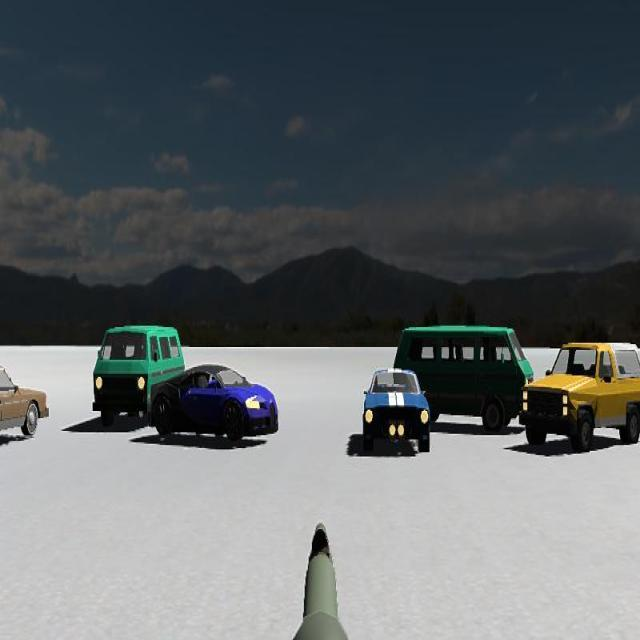car: (393, 323, 534, 431), (519, 340, 640, 451), (150, 363, 280, 447), (92, 324, 186, 428), (361, 366, 430, 453), (0, 362, 49, 454)
